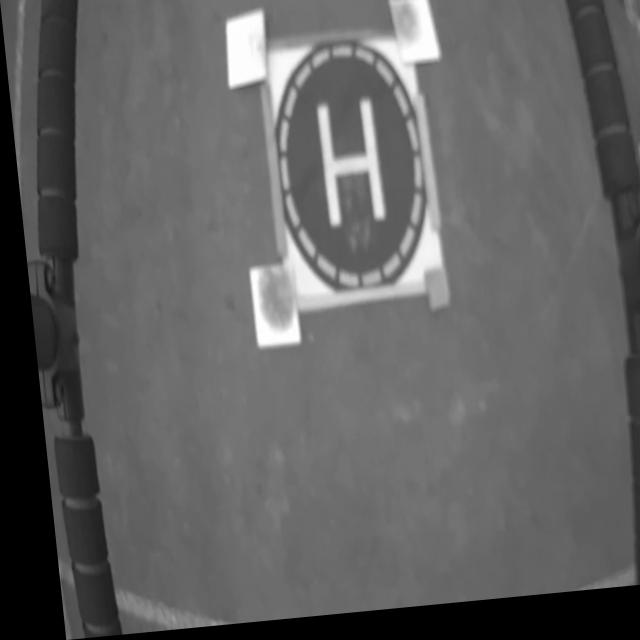Helipad: (314, 103, 381, 233)
